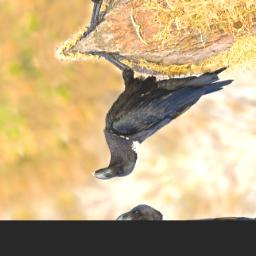Crow: (45, 10, 256, 187)
